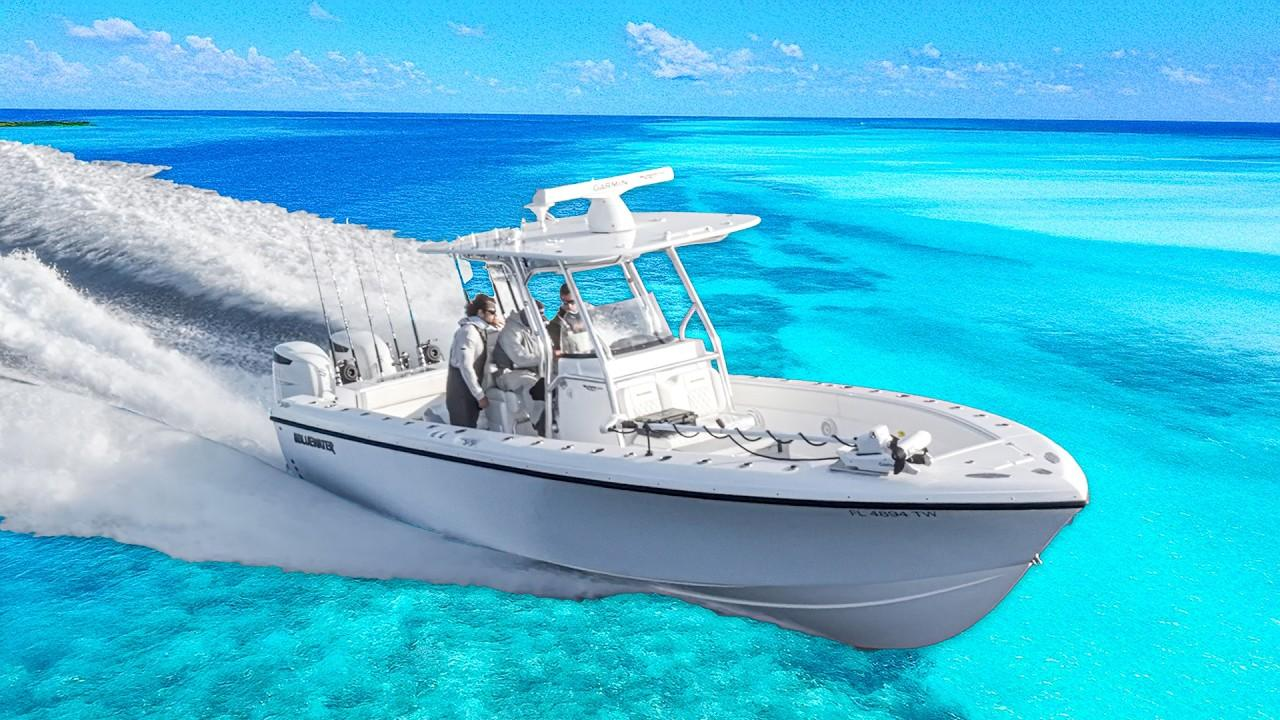fishing boat: (263, 161, 1096, 648)
